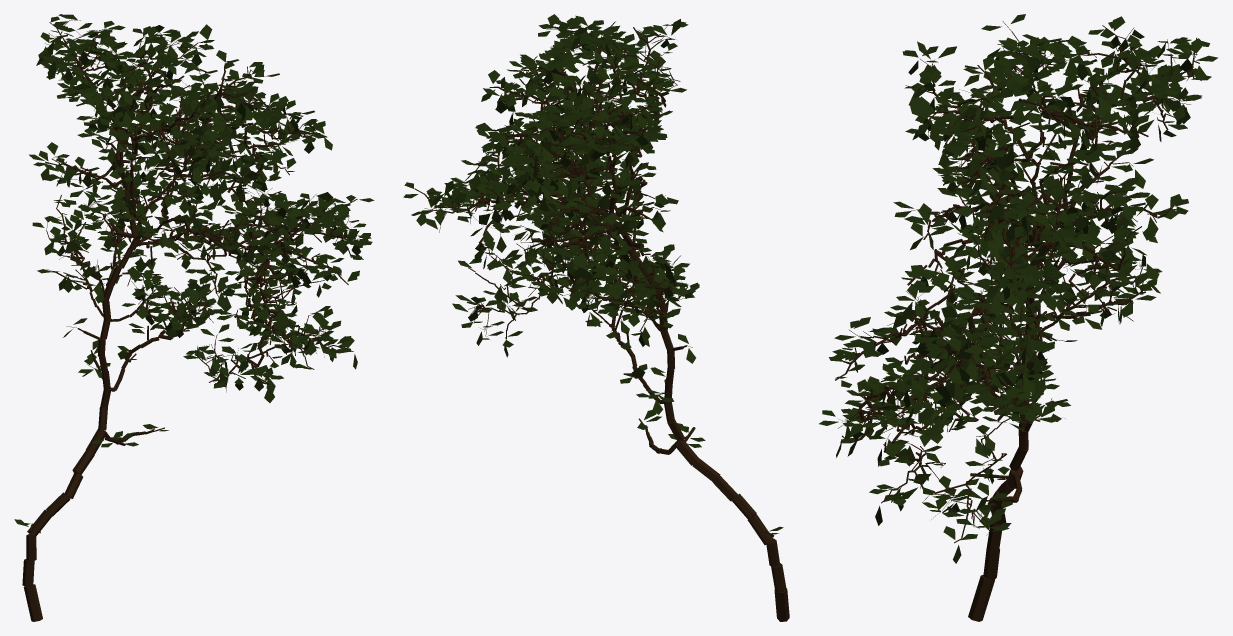
Rendered from tree_343.obj.
3 views of the same model, side by side, from view 1: azimuth 30°, elevation 25°; view 2: azimuth 150°, elevation 25°; view 3: azimuth 270°, elevation 25° (orthographic). The views are drawn at different scales.
Parts seen in each view (by area): view 1: Leaves, TrunkAndBranches; view 2: Leaves, TrunkAndBranches; view 3: Leaves, TrunkAndBranches.
Part boxes in pixels (x1,y1,x2,y2): Leaves: [14, 14, 374, 526]; TrunkAndBranches: [22, 20, 359, 621]; Leaves: [403, 14, 783, 534]; TrunkAndBranches: [414, 26, 789, 621]; Leaves: [819, 14, 1218, 563]; TrunkAndBranches: [835, 21, 1199, 621].
Size of the model in its own units: 6.54 by 9.45 by 5.08.
